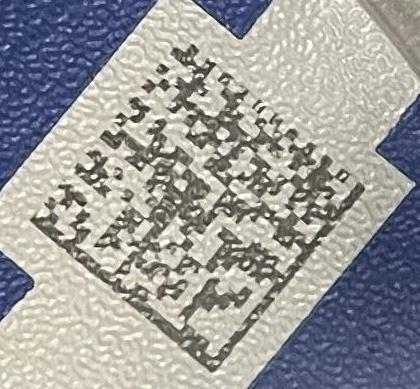datamatrix: (31, 43, 367, 373)
